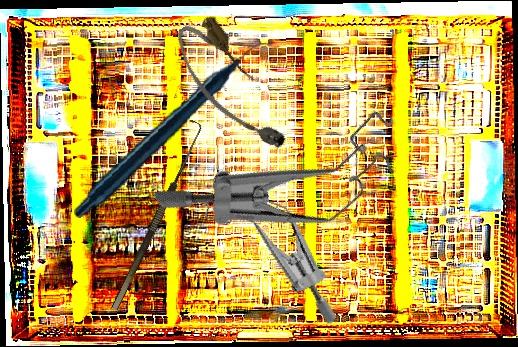Cannula: (165, 9, 296, 167)
Handpiece: (56, 41, 293, 219)
Hook Surgical: (101, 119, 207, 311)
Speculum: (150, 43, 423, 304), (177, 174, 368, 327)
